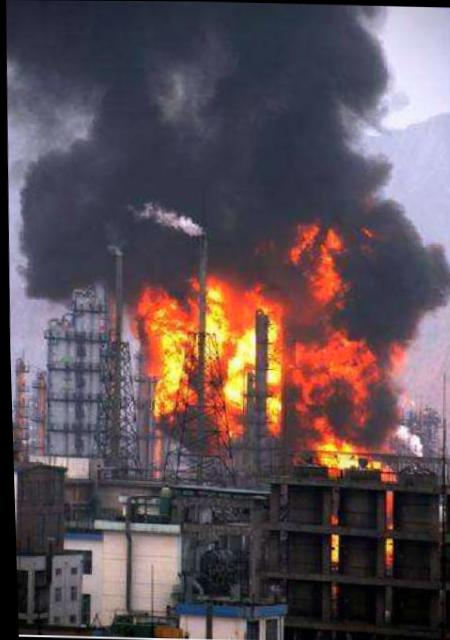fire: (139, 291, 197, 417), (283, 334, 373, 387), (218, 289, 251, 404), (259, 299, 280, 433), (197, 275, 224, 372), (304, 249, 340, 303), (290, 386, 323, 431), (314, 434, 352, 467), (287, 215, 309, 261), (209, 410, 237, 440), (316, 226, 335, 255), (323, 531, 335, 565), (378, 537, 388, 568)
